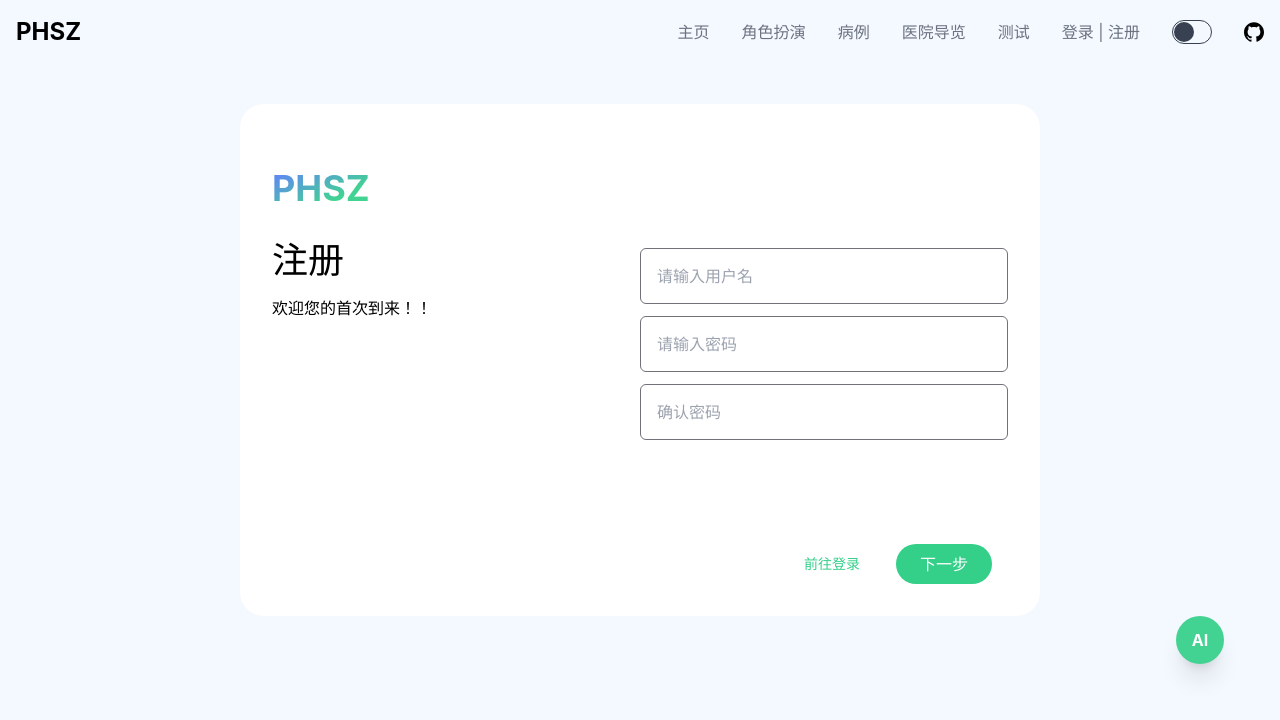
Scenario: Register Test › No Username
Expected: the link "登录 | 注册" is shown, [1062,22,1140,42]
In the password field with placeholder "请输入密码": point(824, 344) [640,316,1008,372], type "admin"
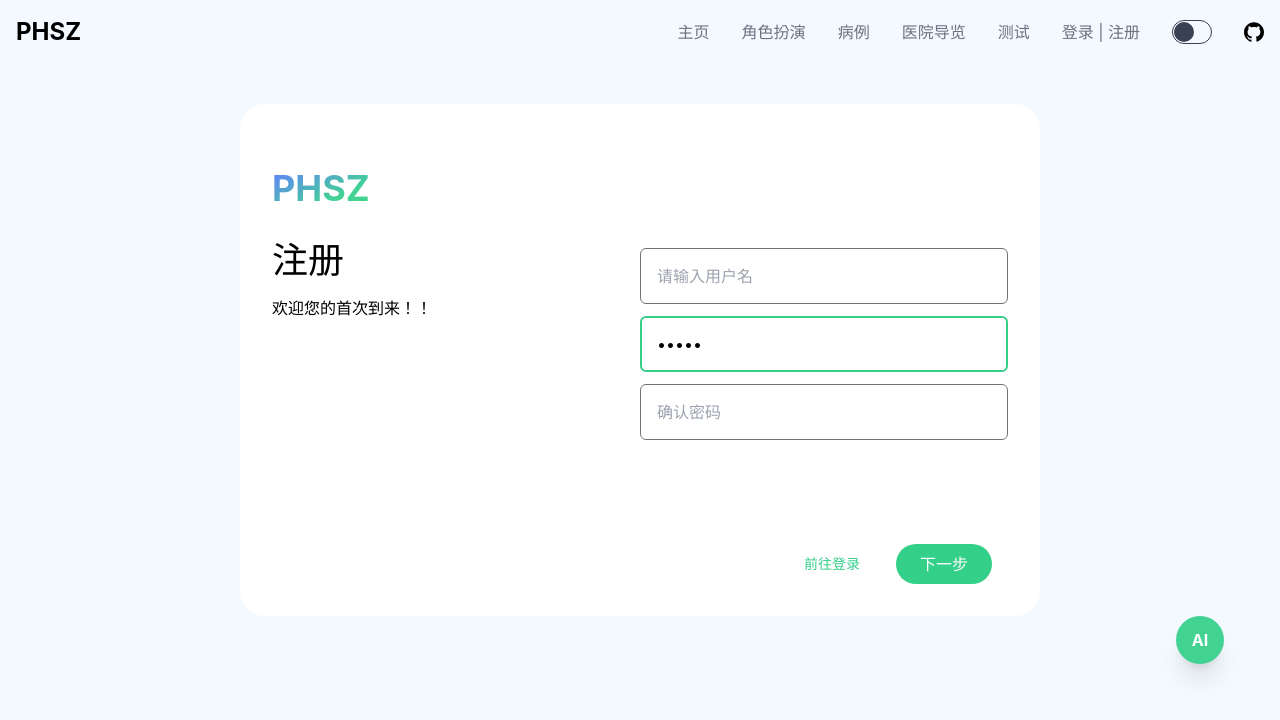
In the password field with placeholder "确认密码": point(824, 412) [640,384,1008,440], type "admin"
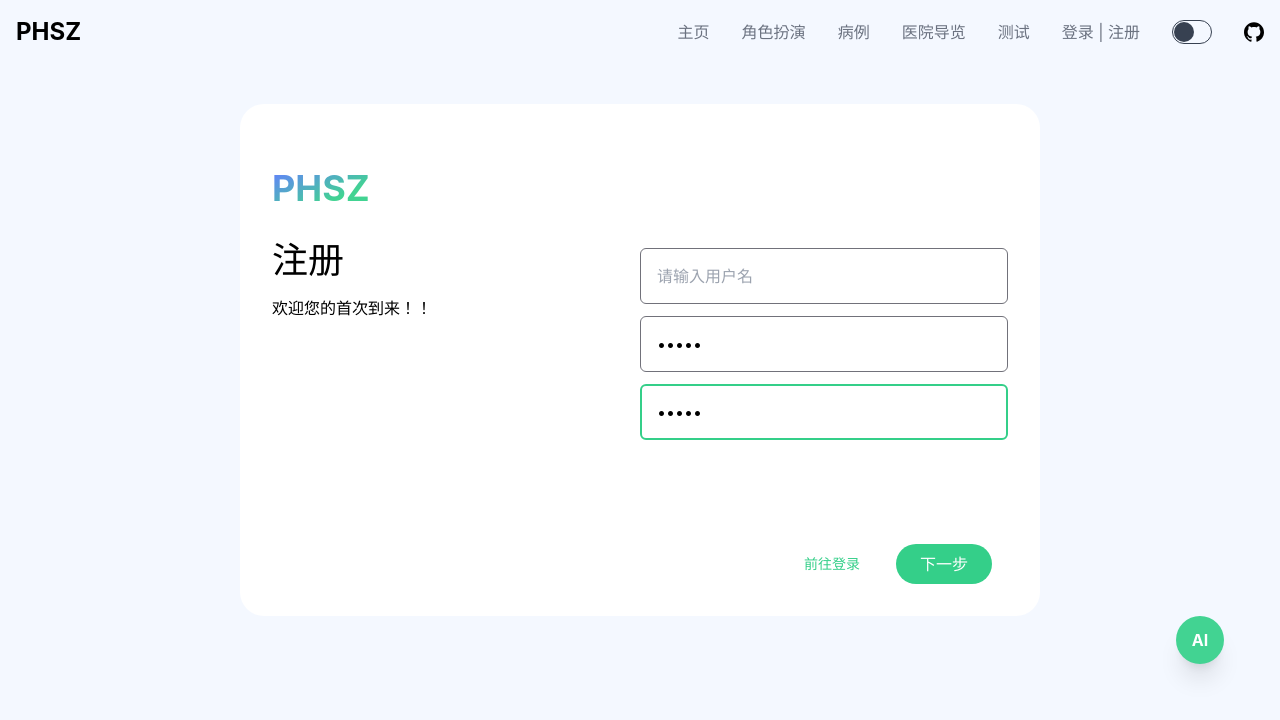
Click the button "下一步": point(944, 564) [896,544,992,584]
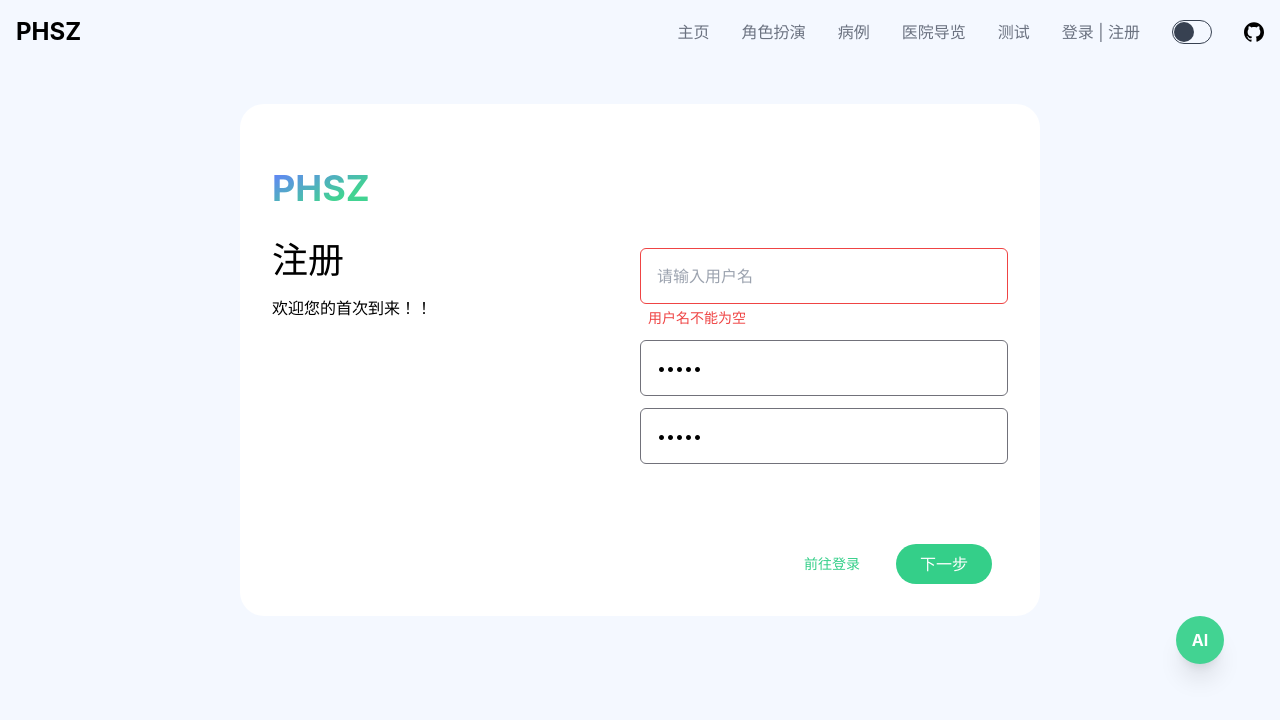
Now the text "用户名不能为空" is shown, box [648,309,746,326]
